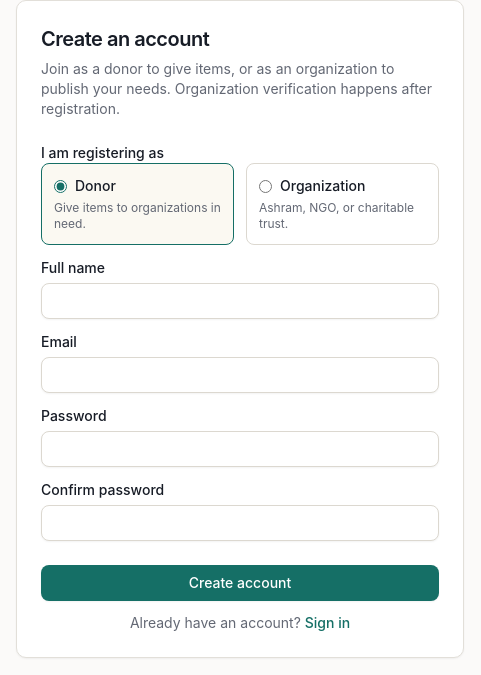
Test case: RegisterPage › allows switching to the organization role
Click the radio button labelled "Organization": click(266, 186) [259,180,272,192]
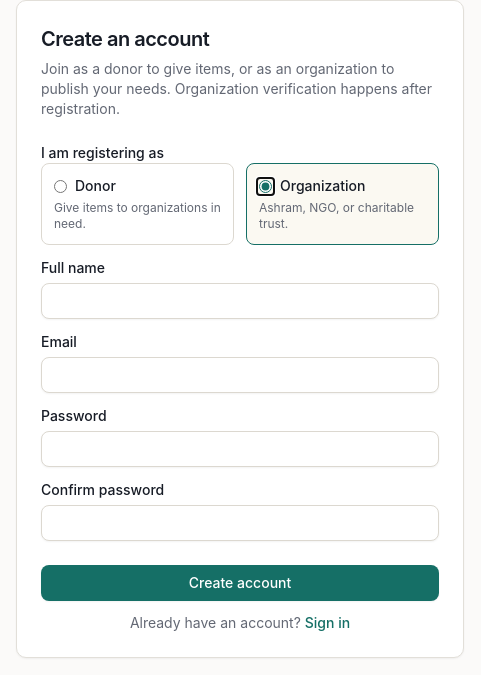
Result: the radio button labelled "Organization" is checked at [259,180,272,192]
